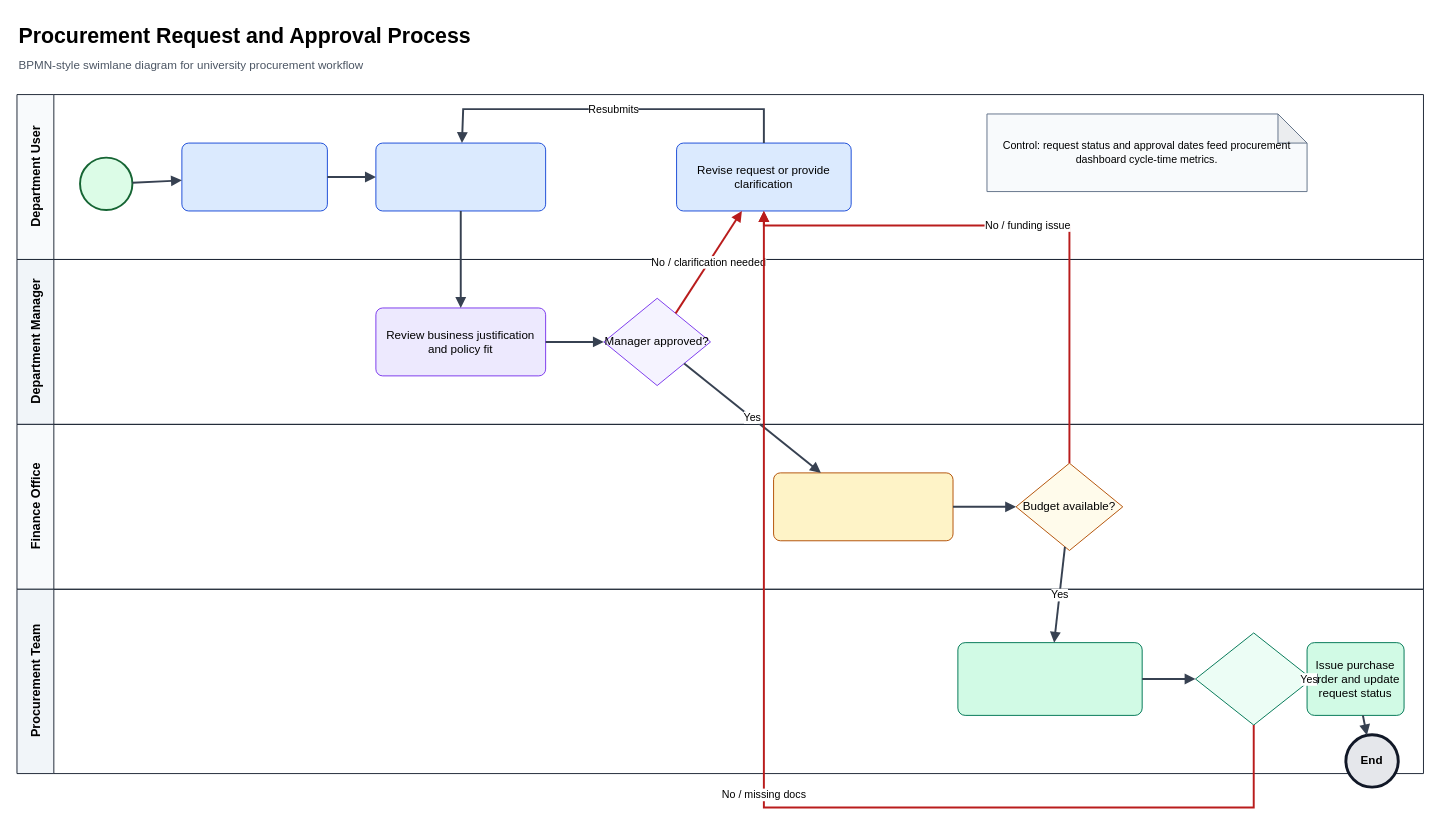
This 1440x832 diagram has some shape labels left out. The centre of each missing label's shape, as x and y in pixels:
Documentation complete?: the point at 1253,678
Identify business need: the point at 254,176
Review sourcing requirements and documentation: the point at 1049,678
Start: the point at 106,183
Submit procurement request with quote and justification: the point at 460,176
Validate budget availability and chart string: the point at 863,506
